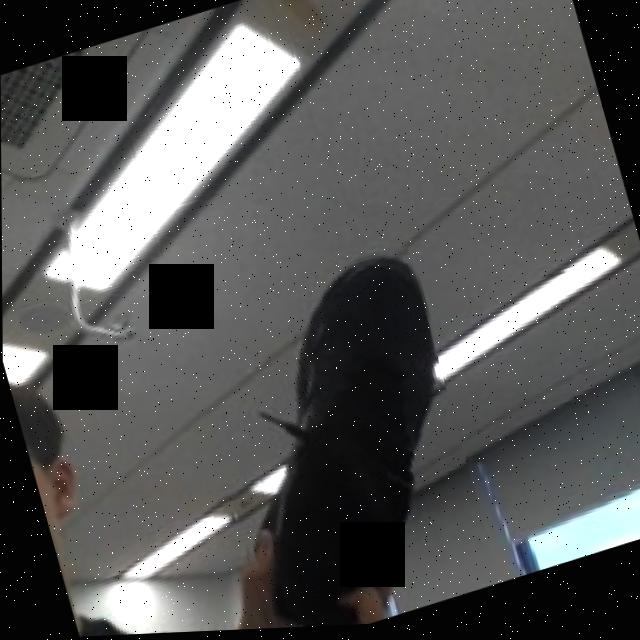shoe: (171, 242, 499, 634)
